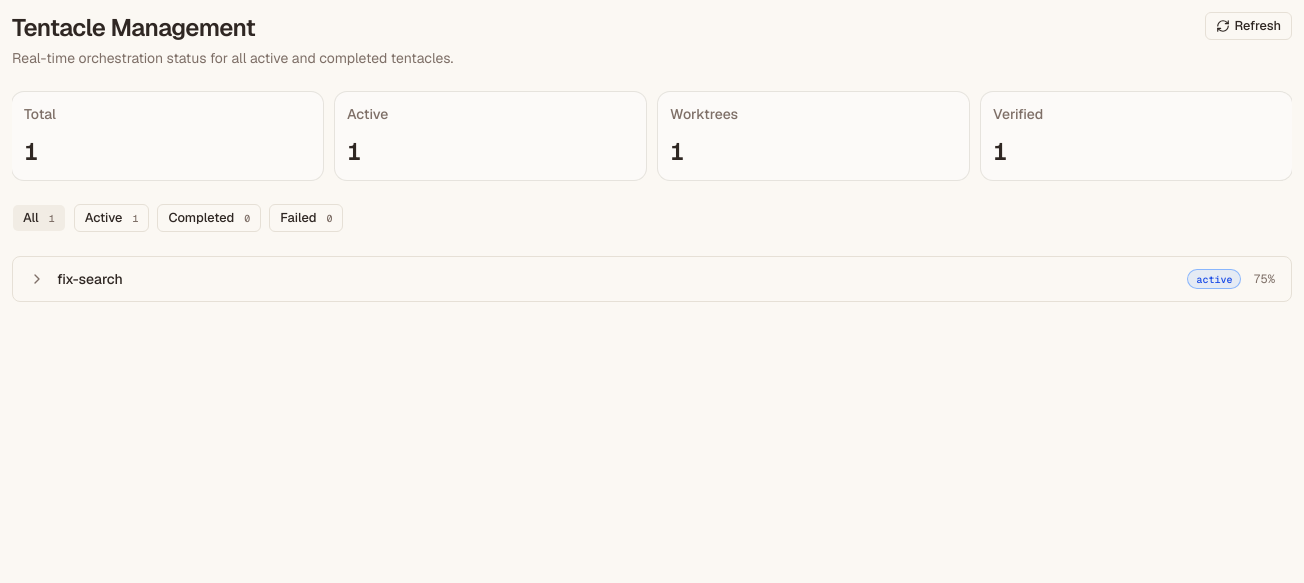
Test: TentaclesPage › expands a tentacle row to show detail on click
// Click to expand
Click the button with test id "tentacle-row-toggle".
click(90, 279)  # box 13,257 -> 1291,301
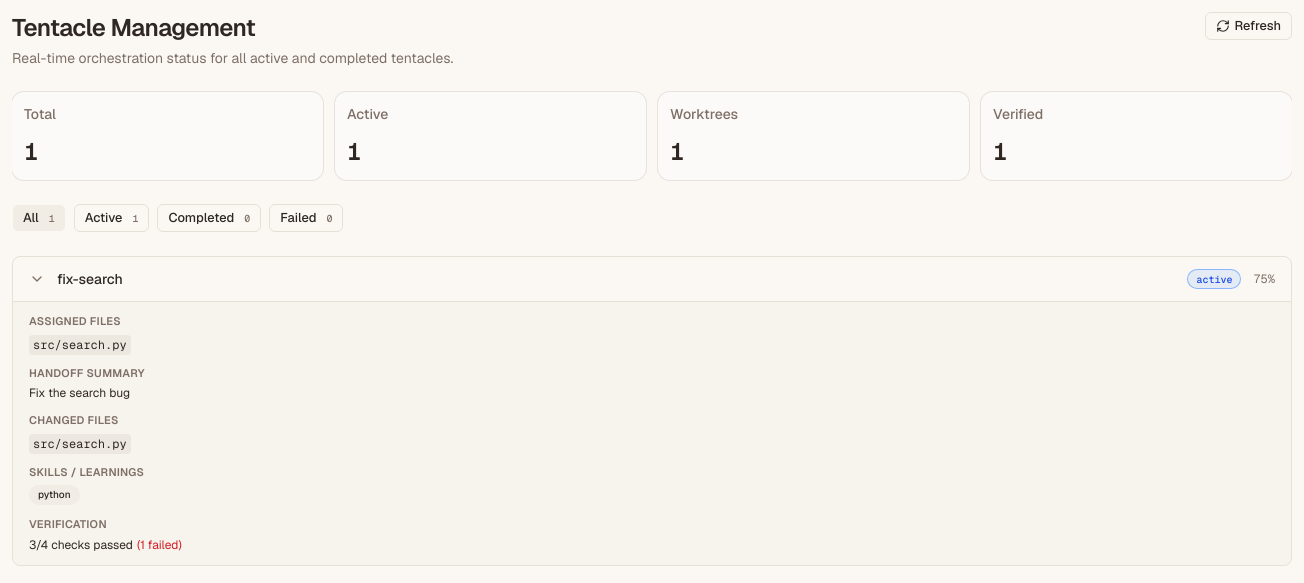
Check: the element with test id "tentacle-detail" is shown, box 13,301 -> 1291,564
Check: the text "src/search.py" below "Assigned Files" is shown, box 33,337 -> 127,353
Check: the icon "python" is shown, box 29,485 -> 80,505
